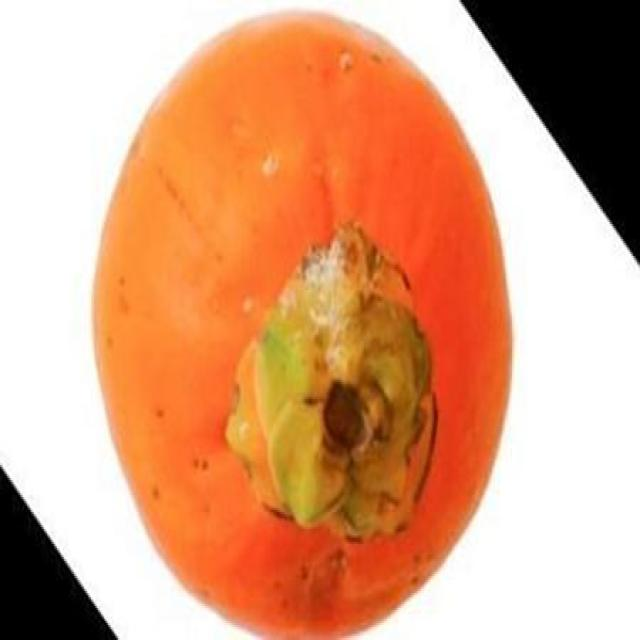good: (88, 11, 518, 638)
